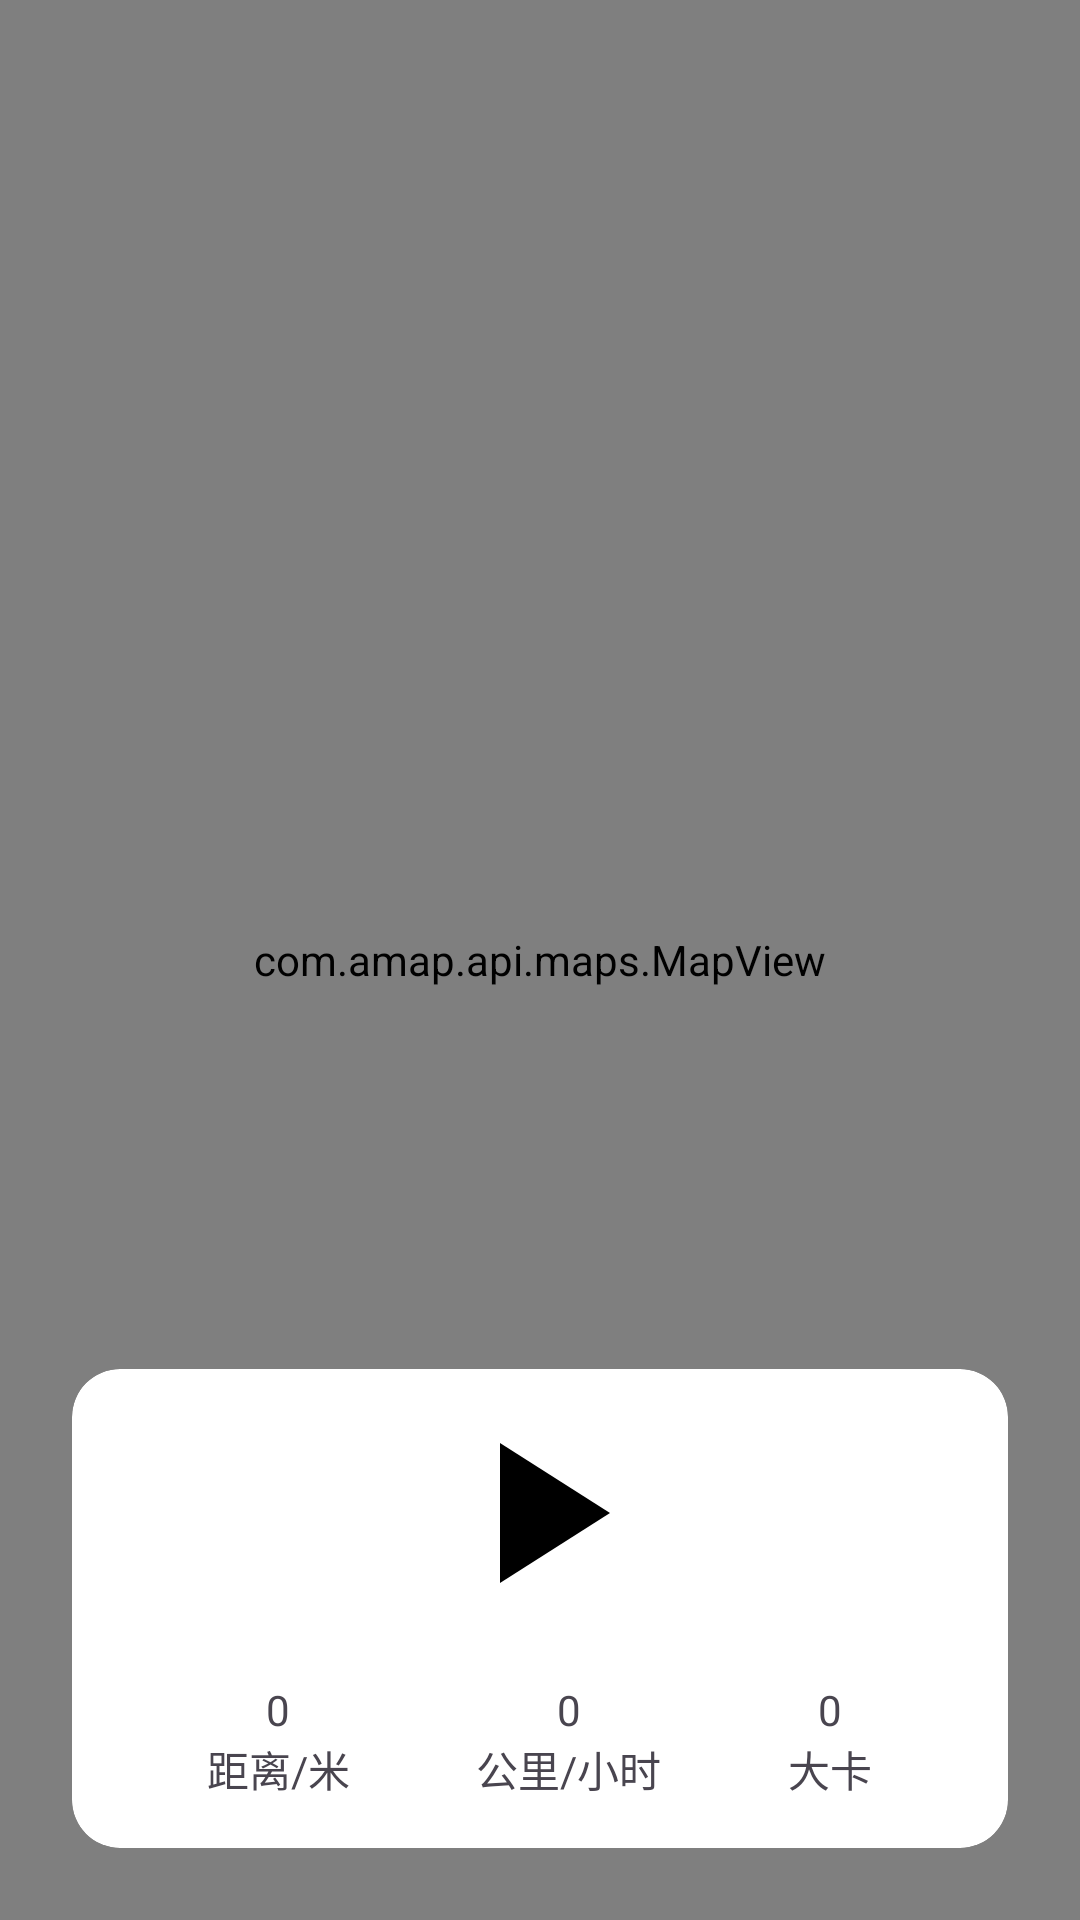

Where icons sit on this 1080 x 1920 app screen, as (x1, y1, x2, y2):
play arrow: (500, 1443, 610, 1583)
